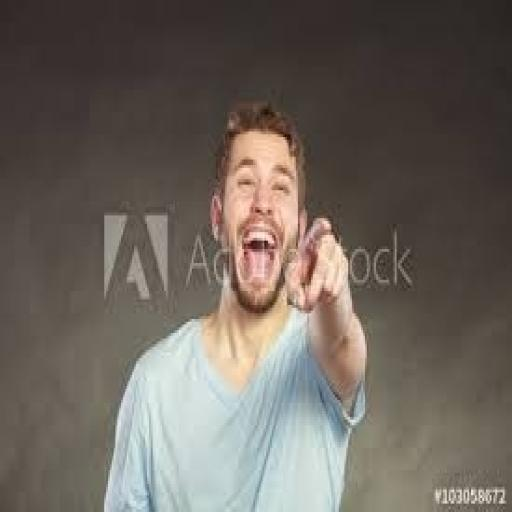laughing: (99, 92, 374, 510)
